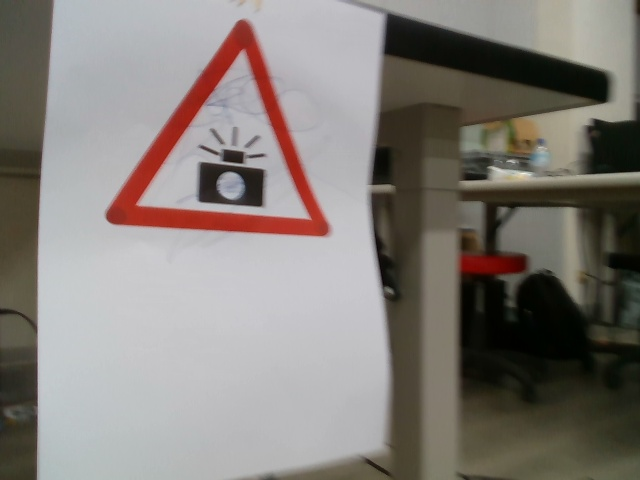camera: (99, 11, 339, 246)
